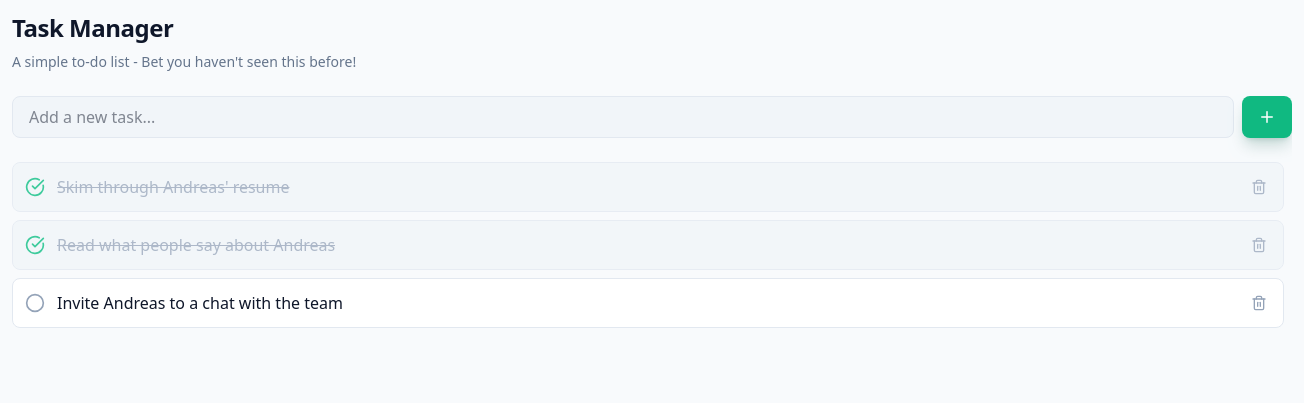
Scenario: TodoApp › adds, toggles and deletes a task
Type "Book an interview" into the field labelled "new task" at [623, 117], box 12,96 -> 1234,138
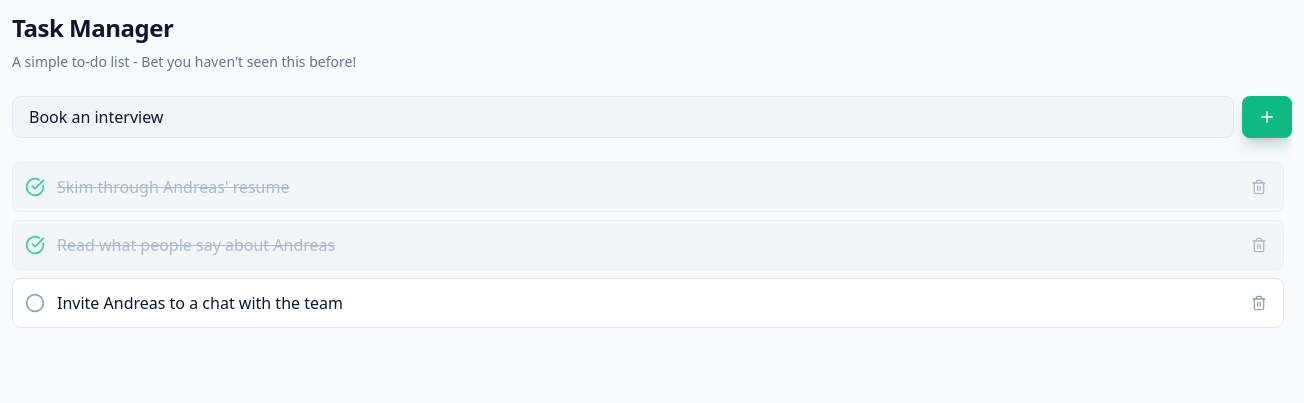
Click the button named "Add task" at [1267, 117], box 1242,96 -> 1292,138
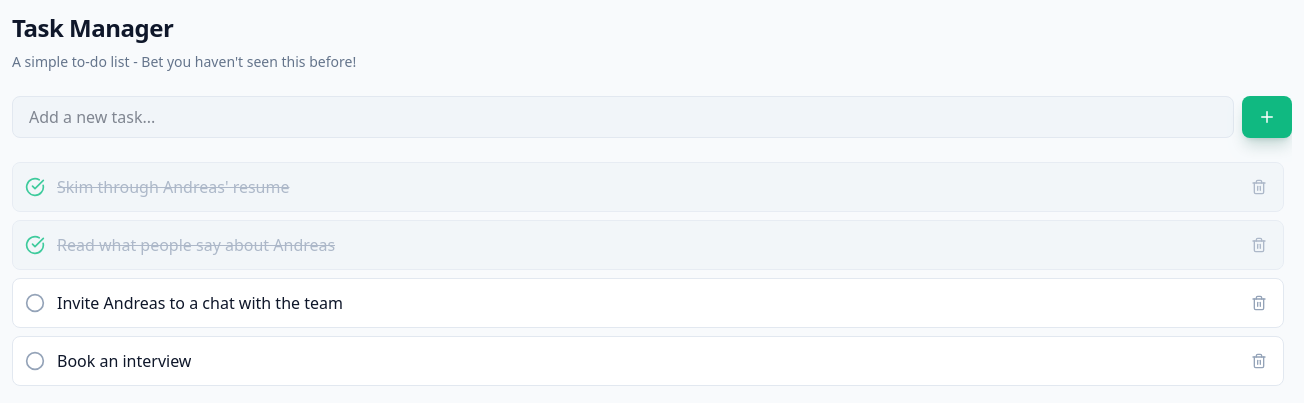
Now the list item "Book an interview" is shown, box 12,336 -> 1284,386
Click the button named "Mark \"Book an interview\" complete" at [35, 361], box 25,351 -> 45,371
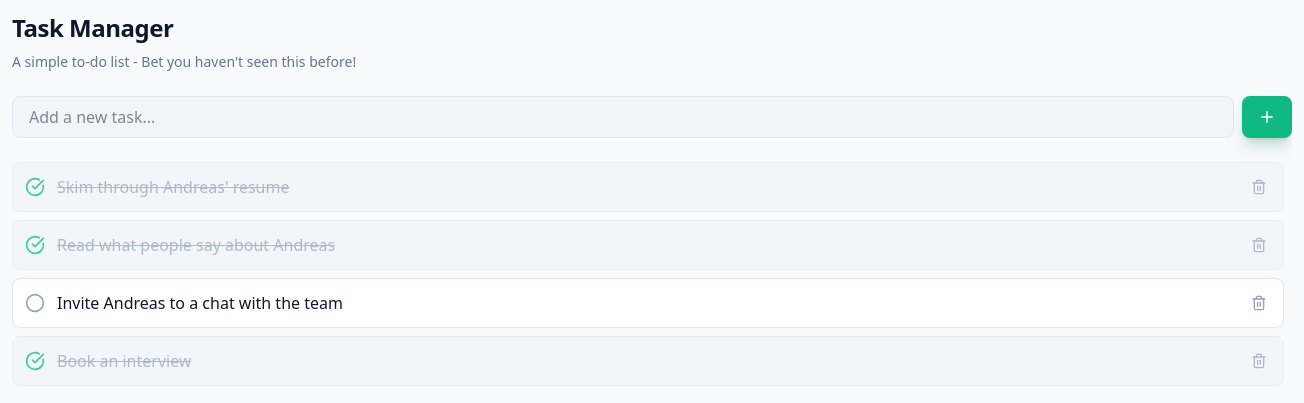
Now the button named "Mark \"Book an interview\" incomplete" is shown, box 25,351 -> 45,371
Click the button named "Delete \"Book an interview\"" at [1259, 361], box 1247,349 -> 1271,373
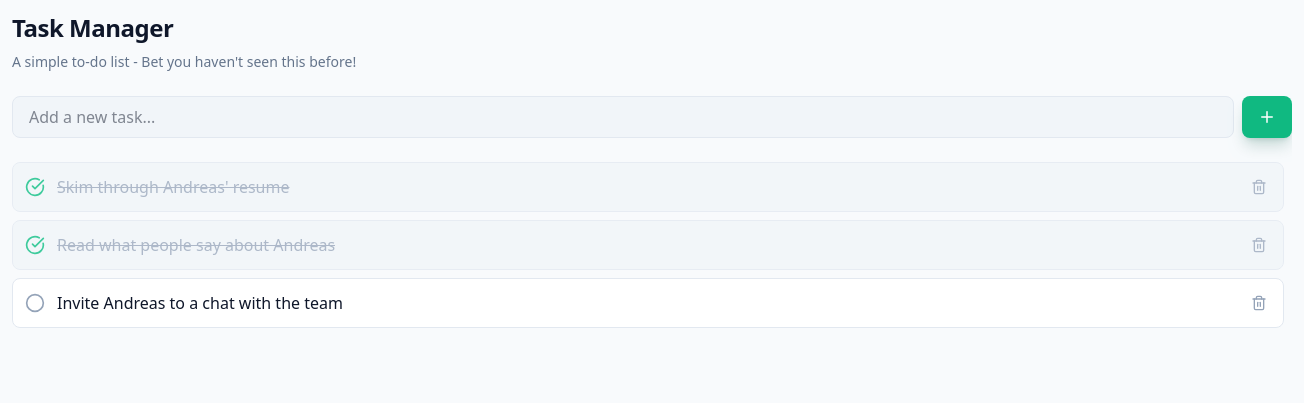
Now the text "Book an interview" is gone
